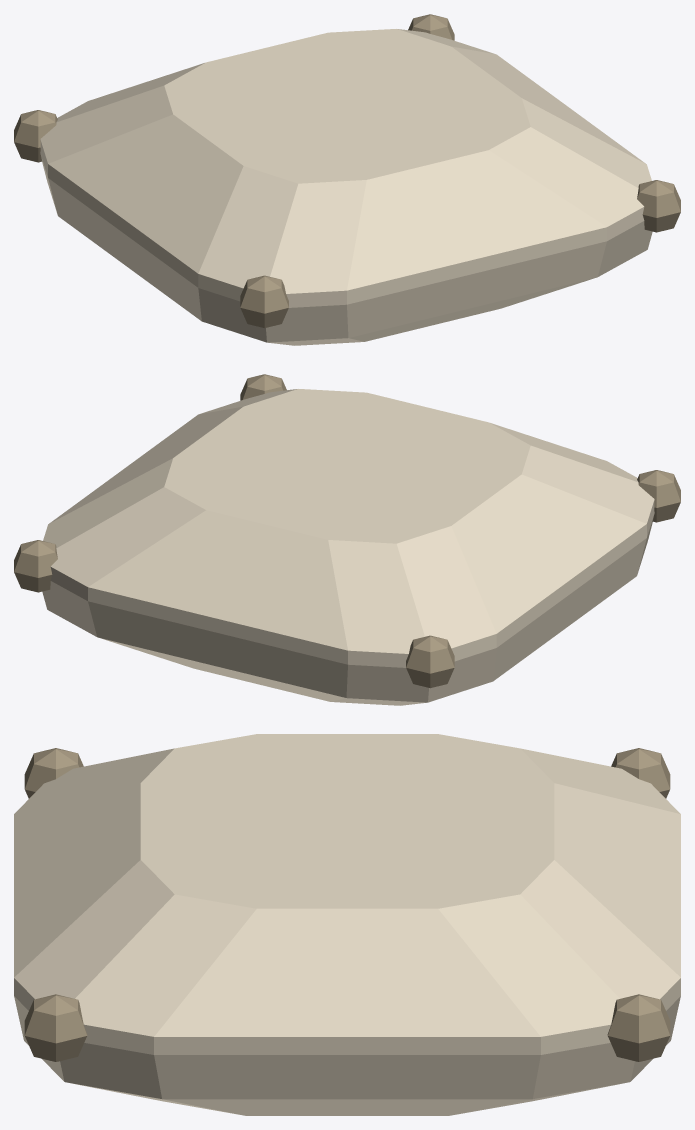
Rendered from SM_LPI_Text_Cushion_03.fbx.
3 renders of one model, top to bottom at view 1: azimuth 30°, elevation 25°; view 2: azimuth 150°, elevation 25°; view 3: azimuth 270°, elevation 25°, orthographic. The views are drawn at different scales.
Visible parts, largest first — view 1: SM_LPI_Text_Cushion_03; view 2: SM_LPI_Text_Cushion_03; view 3: SM_LPI_Text_Cushion_03.
Boxes of the visible parts, box(x1,y1,x2,y2) form: SM_LPI_Text_Cushion_03: box(14, 14, 680, 345); SM_LPI_Text_Cushion_03: box(14, 374, 680, 705); SM_LPI_Text_Cushion_03: box(14, 734, 680, 1115).
Bounding box in the file's own units: 0.48 × 0.16 × 0.48.
